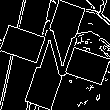N_S: (28, 25, 82, 85)
